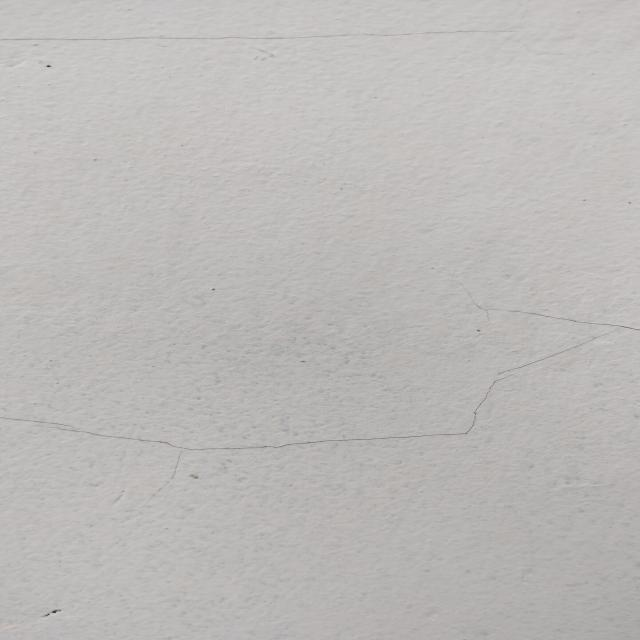Crack: (6, 301, 640, 458), (0, 28, 577, 44)
